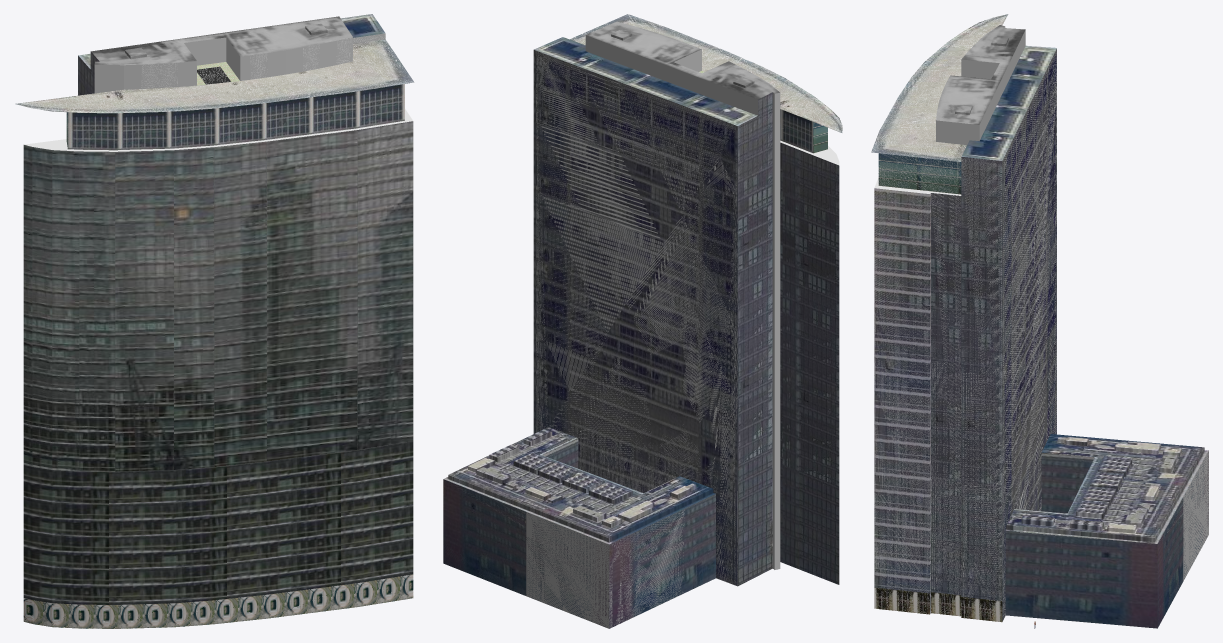
Rendered from London,-West-India-Quay.dae.
3 renders of one model, left to right at view 1: azimuth 30°, elevation 25°; view 2: azimuth 150°, elevation 25°; view 3: azimuth 270°, elevation 25°, orthographic. The views are drawn at different scales.
Visible parts, largest first — view 1: SketchUp (×10); view 2: SketchUp (×16); view 3: SketchUp (×20).
Part boxes in pixels (left/top/right/bottom): SketchUp (×10): left=15, top=14, right=414, bottom=628; SketchUp (×16): left=443, top=14, right=842, bottom=628; SketchUp (×20): left=871, top=14, right=1208, bottom=628.
Size of the model in its own units: 3119 by 2790 by 4370.
